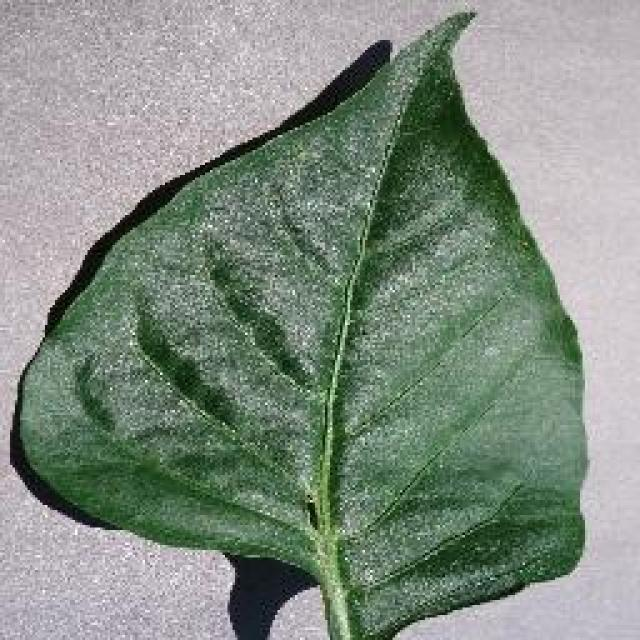Leaf: (106, 92, 572, 513)
